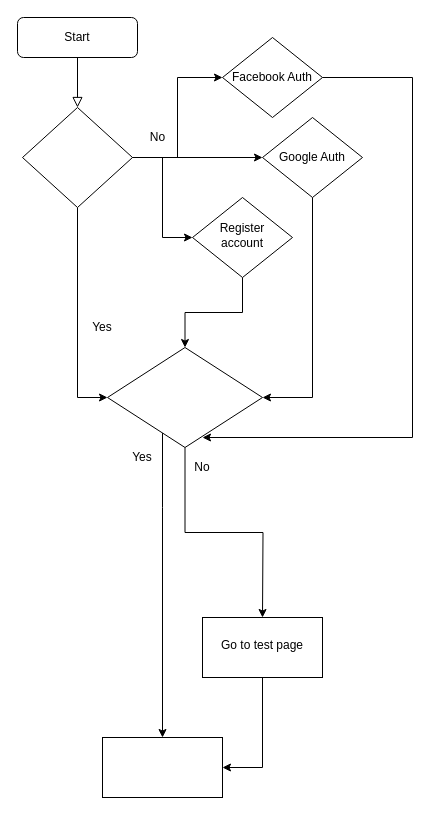
Some shapes in this 438 by 815 pixel diagram are drawn without their labels. The centre of each missing label's shape, as x and y in pixels:
"Go to recommendations page" goes at point (162, 767).
"Has user passed test ?" goes at point (184, 397).
"Is user Authenticated ?" goes at point (77, 157).
